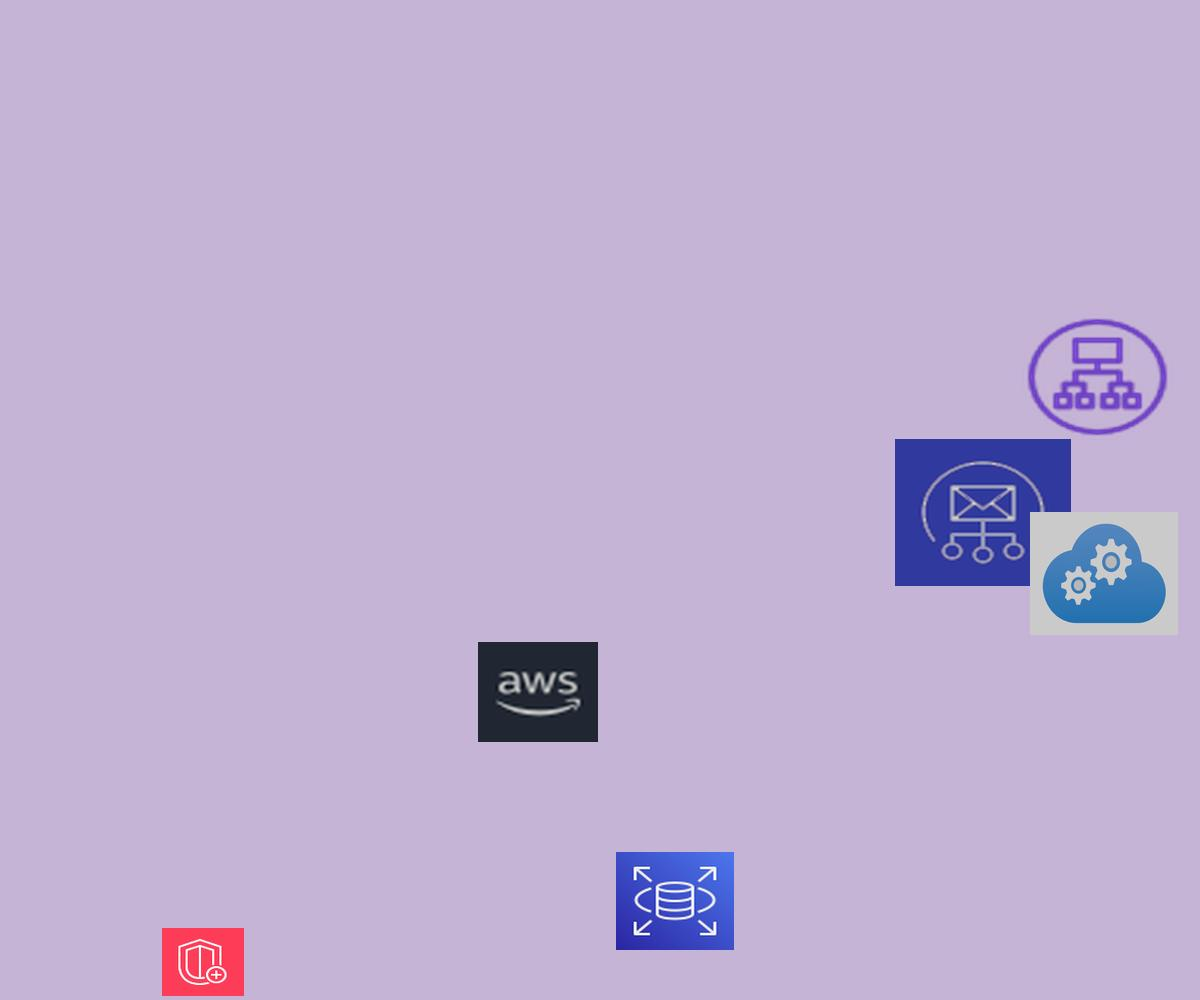AWS-Cloud-logo: (478, 642, 598, 742)
AWS-RDS: (616, 852, 734, 950)
AWS-Res_Elastic-Load-Balancing_Application-Load-Balancer: (1022, 314, 1173, 440)
AWS-Shield: (162, 928, 244, 996)
AWS-Simple-Email-Service: (895, 439, 1071, 586)
Azure_cloud_services: (1030, 512, 1178, 635)
